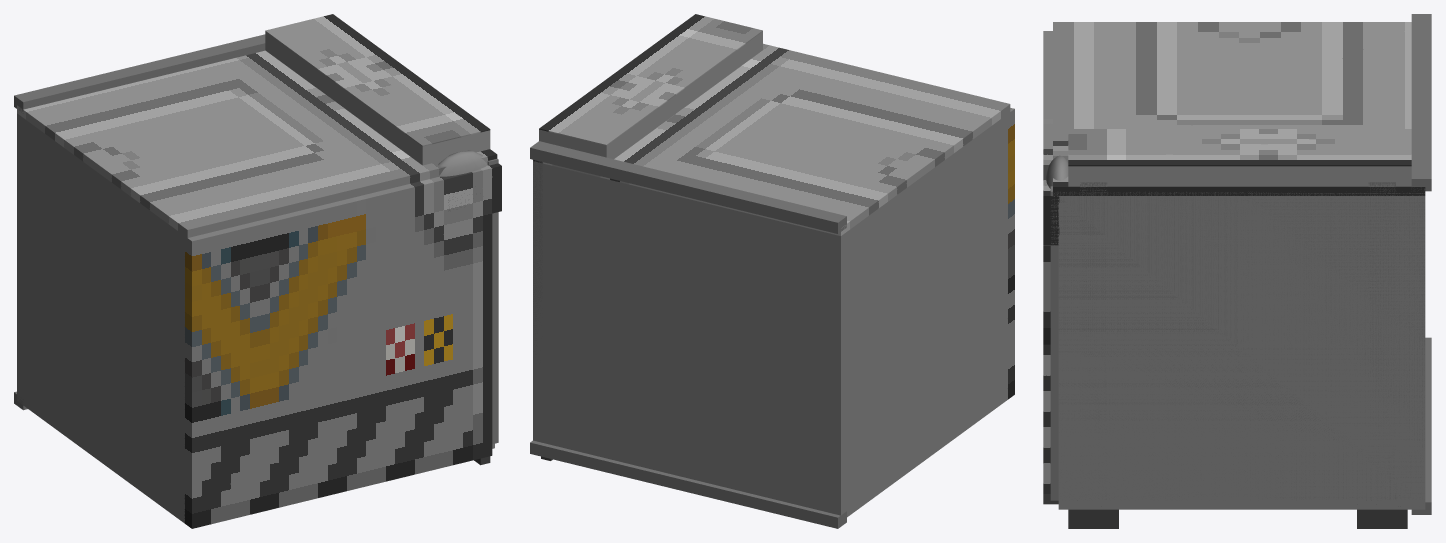
The model's file is CMU3DFreightAU14ContainerTartarusRightLightGrayWY.glb.
The picture shows the model from 3 angles, left to right: view 1: azimuth 30°, elevation 25°; view 2: azimuth 150°, elevation 25°; view 3: azimuth 270°, elevation 25°; orthographic projection. The views are drawn at different scales.
Parts seen in each view (by area): view 1: painted front panel, closed cargo shell, source-painted lid, source-painted locking strap, outer lid strap, rear horizontal frame, outer end wall, rounded strap end; view 2: closed cargo shell, source-painted lid, rear horizontal frame (×2), source-painted locking strap, outer lid strap, painted front panel, outer end wall; view 3: closed cargo shell, source-painted lid, outer end wall, source-painted locking strap, outer lid strap, rear horizontal frame (×2), painted front panel, corner lifting foot (×2), corner frame upright (×2), rounded strap end.
Boxes of the visible parts, left/top/right/bottom form: painted front panel: left=184, top=163, right=501, bottom=528; closed cargo shell: left=17, top=113, right=494, bottom=523; source-painted lid: left=17, top=50, right=497, bottom=237; source-painted locking strap: left=265, top=14, right=490, bottom=146; outer lid strap: left=265, top=32, right=490, bottom=165; rear horizontal frame: left=14, top=34, right=265, bottom=113; outer end wall: left=487, top=158, right=498, bottom=444; rounded strap end: left=438, top=150, right=487, bottom=176; closed cargo shell: left=533, top=114, right=1007, bottom=517; source-painted lid: left=533, top=43, right=1010, bottom=235; rear horizontal frame (×2): left=530, top=141, right=846, bottom=528; source-painted locking strap: left=539, top=14, right=762, bottom=145; outer lid strap: left=539, top=31, right=762, bottom=159; painted front panel: left=1008, top=108, right=1014, bottom=399; outer end wall: left=533, top=160, right=542, bottom=354; closed cargo shell: left=1058, top=196, right=1425, bottom=509; source-painted lid: left=1053, top=22, right=1425, bottom=195; outer end wall: left=1050, top=186, right=1425, bottom=500; source-painted locking strap: left=1068, top=129, right=1411, bottom=166; outer lid strap: left=1068, top=166, right=1411, bottom=186; rear horizontal frame (×2): left=1411, top=14, right=1431, bottom=514; painted front panel: left=1043, top=31, right=1059, bottom=504; corner lifting foot (×2): left=1068, top=509, right=1407, bottom=528; corner frame upright (×2): left=1080, top=182, right=1395, bottom=499; rounded strap end: left=1046, top=155, right=1068, bottom=188.
Size of the model in its own units: 1 by 1.03 by 0.995.
Materials: 10 (3 with a texture image).
